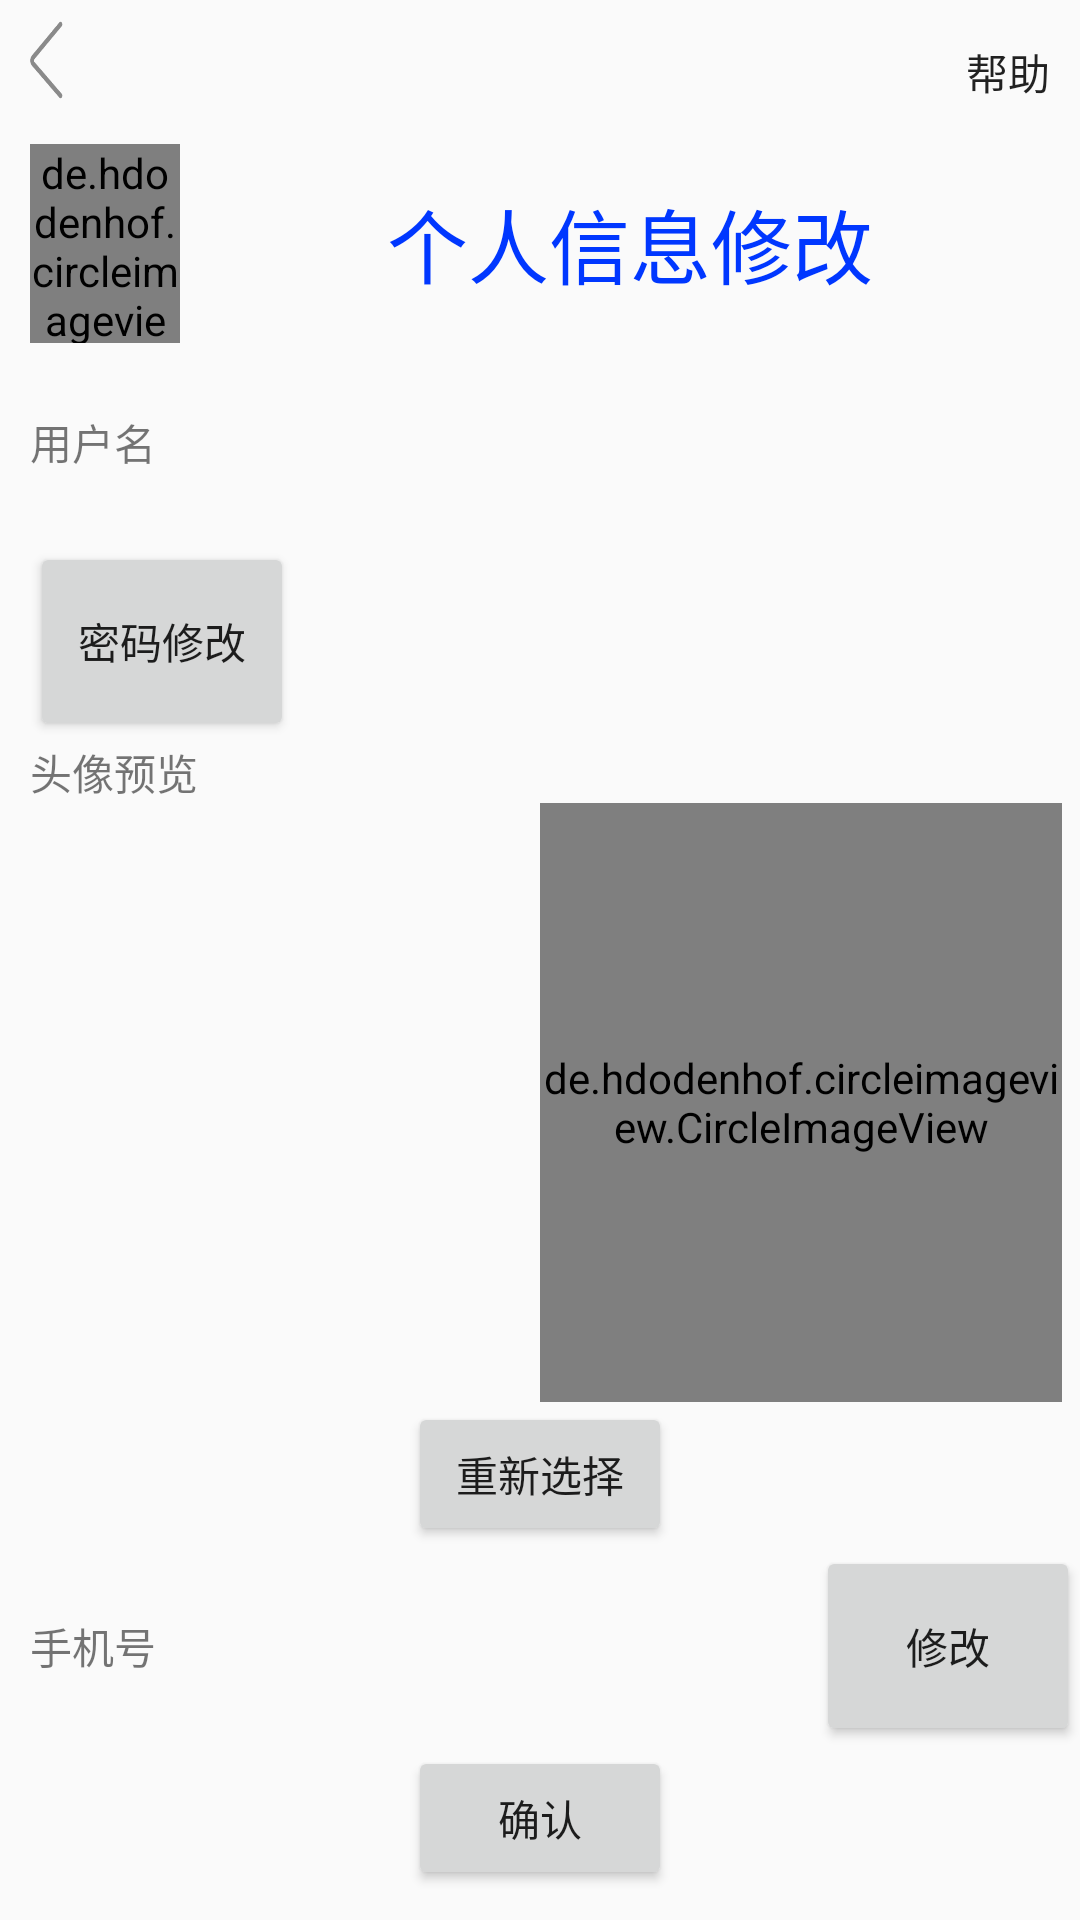

Named icons in this screenshot (1080x1920) and their bounding boxes, (x1,y1,x2,y2):
back: (30,22,63,98)
